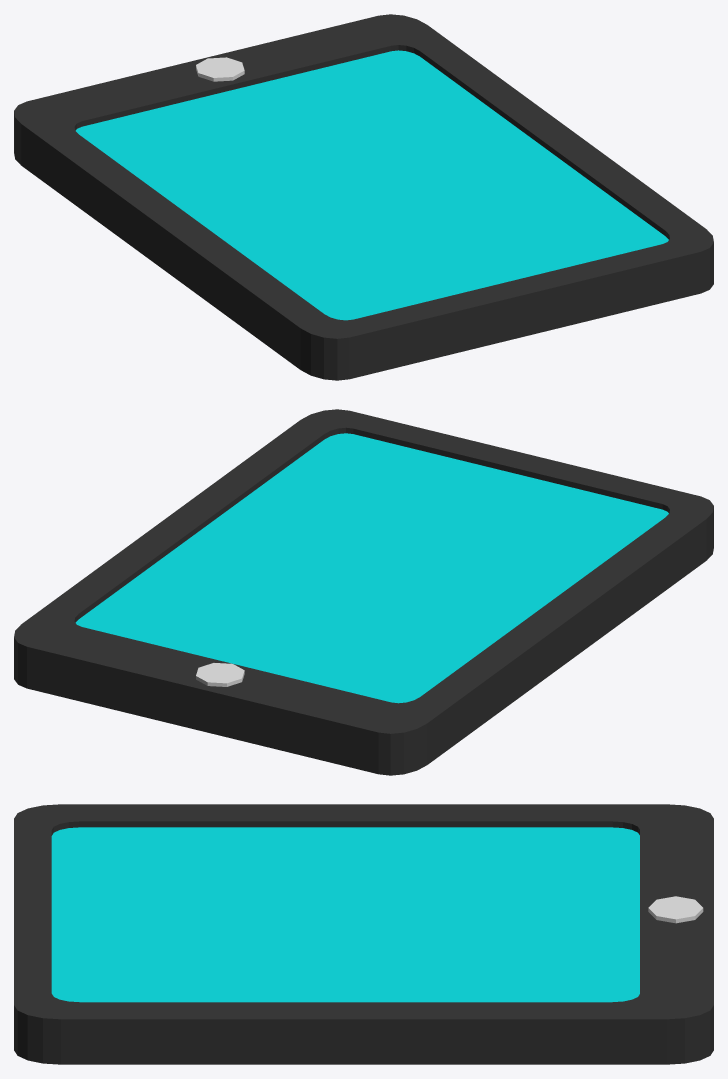
File: ipad.fbx
3 renders of one model, top to bottom at view 1: azimuth 30°, elevation 25°; view 2: azimuth 150°, elevation 25°; view 3: azimuth 270°, elevation 25°, orthographic. The views are drawn at different scales.
Visible parts, largest first — view 1: Cube.001, Cube, Circle; view 2: Cube.001, Cube, Circle; view 3: Cube.001, Cube, Circle.
Part boxes in pixels (<box>): Cube.001: <box>75,50,668,320</box>; Cube: <box>14,14,713,380</box>; Circle: <box>196,57,244,81</box>; Cube.001: <box>75,433,668,703</box>; Cube: <box>14,409,713,775</box>; Circle: <box>196,663,244,686</box>; Cube.001: <box>51,827,639,1002</box>; Cube: <box>14,804,713,1064</box>; Circle: <box>648,896,703,923</box>.
Bounding box in the file's own units: 200 × 21.41 × 275.
